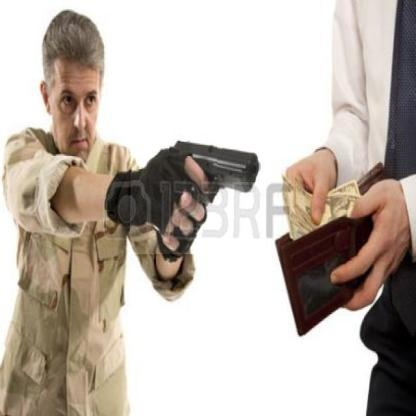handgun: (130, 136, 266, 255)
